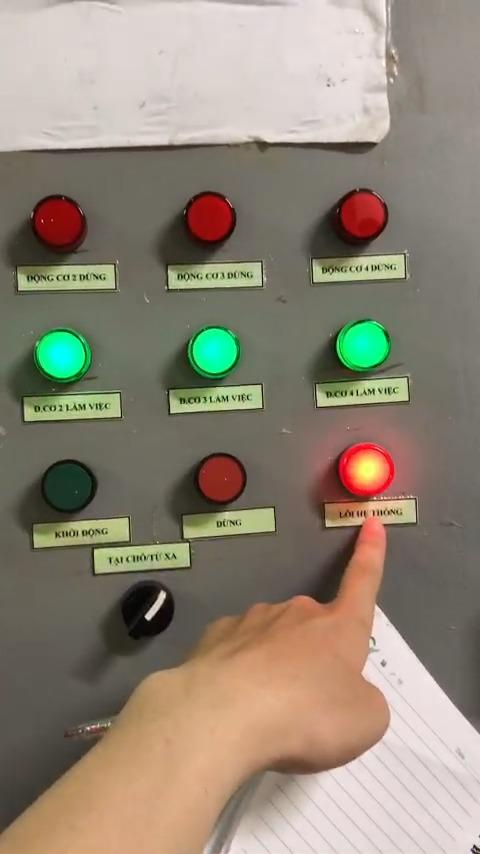led: (334, 439, 396, 499), (177, 189, 238, 248), (39, 455, 98, 515), (194, 448, 251, 508), (26, 195, 85, 251), (36, 326, 90, 385), (332, 190, 388, 245), (334, 316, 390, 371), (183, 325, 239, 380)
twist: (115, 573, 174, 636)
